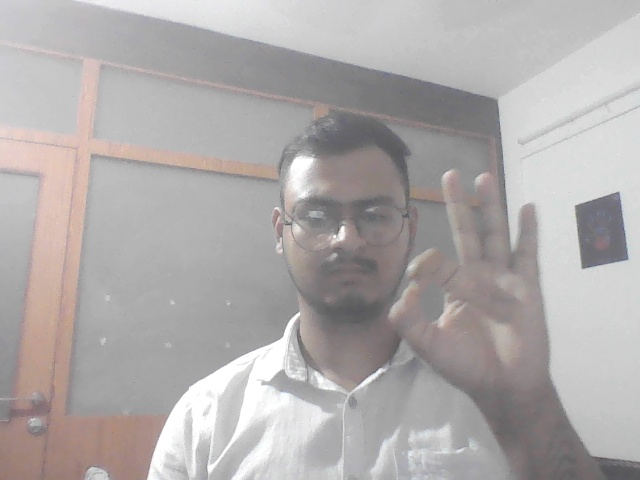OK: (381, 170, 560, 401)
